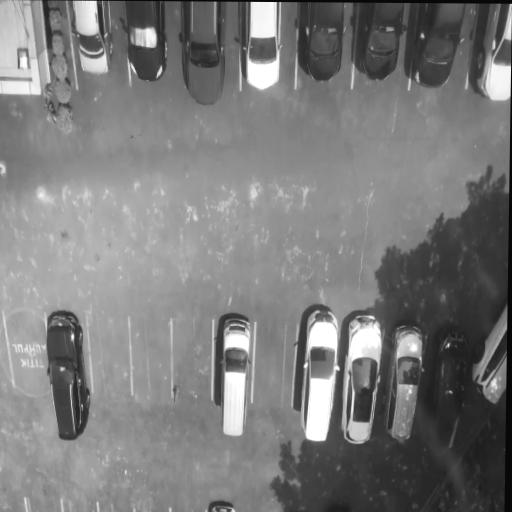Car: (41, 306, 93, 443), (403, 3, 468, 101), (212, 307, 252, 456), (343, 312, 384, 451), (299, 307, 337, 451), (346, 3, 406, 94), (295, 2, 352, 92), (430, 328, 471, 450), (179, 1, 225, 105), (463, 4, 509, 105), (387, 323, 424, 448), (67, 0, 113, 96), (240, 2, 283, 97), (123, 1, 166, 93), (468, 301, 504, 410), (206, 492, 240, 512)
Space Available: (250, 307, 296, 430), (3, 313, 49, 419), (129, 306, 168, 414), (173, 322, 214, 421), (88, 305, 128, 406), (131, 487, 168, 512), (165, 489, 205, 512), (63, 489, 99, 512), (98, 492, 135, 512), (24, 494, 63, 512)
